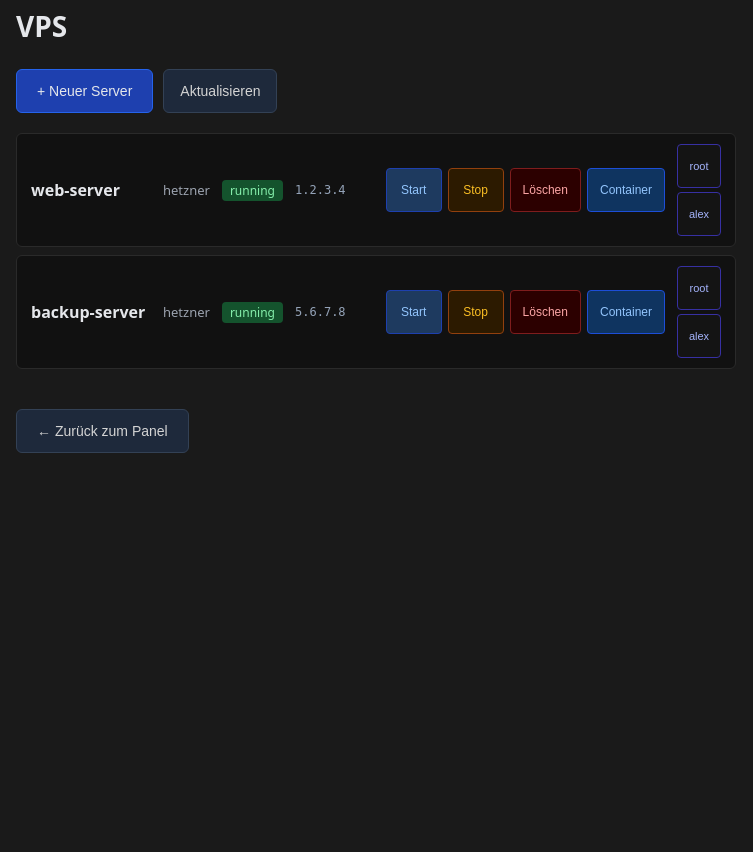
VpsSshTerminal — AC4: Fehlerklassen-Anzeige, 403, Liste bleibt intakt › WS-Upgrade-403 (nie verbunden) → „Keine Berechtigung"-Meldung ohne Crash; Liste bleibt intakt
Click the button with aria-label "SSH-Terminal als alex für backup-server öffnen" at (699, 336), box [677, 314, 721, 358]
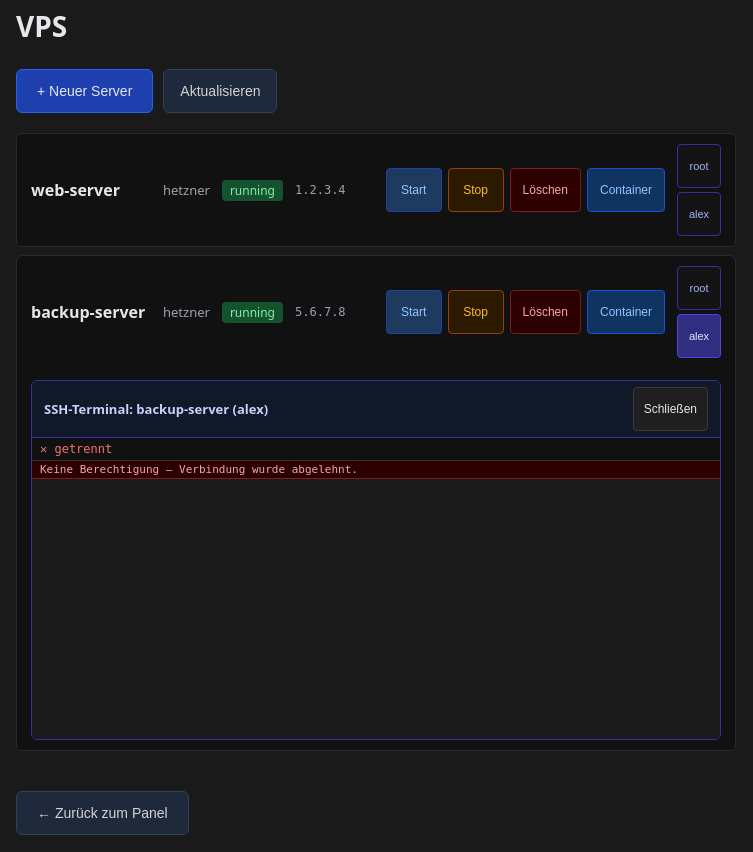
Expected: the button with aria-label "backup-server starten" is shown, [386, 290, 442, 334]
Result: the message "Keine Berechtigung — Verbindung wurde abgelehnt." is shown at [32, 461, 720, 479]
Result: the number of buttons named "SSH-Terminal als root für" is 2 at [677, 144, 721, 188]; [677, 266, 721, 310]
